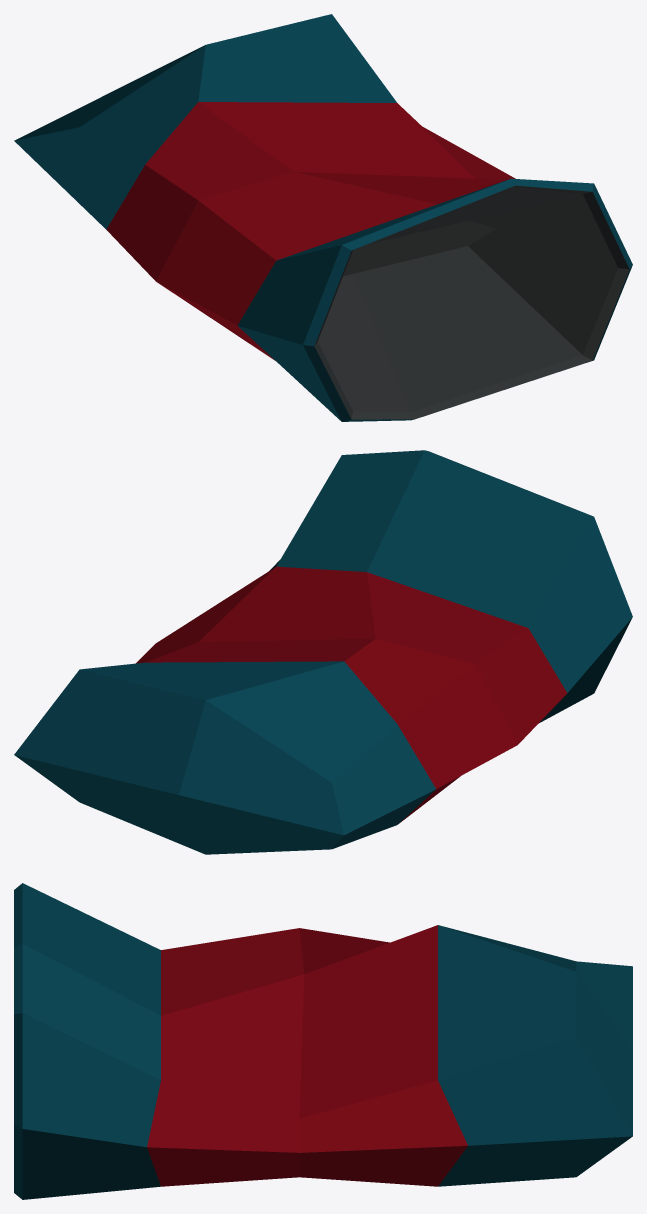
The model's file is Crisp_Packet.fbx.
3 views of the same model, one above another, from view 1: azimuth 30°, elevation 25°; view 2: azimuth 150°, elevation 25°; view 3: azimuth 270°, elevation 25° (orthographic). The views are drawn at different scales.
Visible parts, largest first — view 1: pCube8; view 2: pCube8; view 3: pCube8.
Part boxes in pixels (<box>): pCube8: <box>14,14,632,421</box>; pCube8: <box>14,450,632,854</box>; pCube8: <box>14,883,632,1199</box>.
Size of the model in its own units: 19.41 by 11.54 by 27.22.
